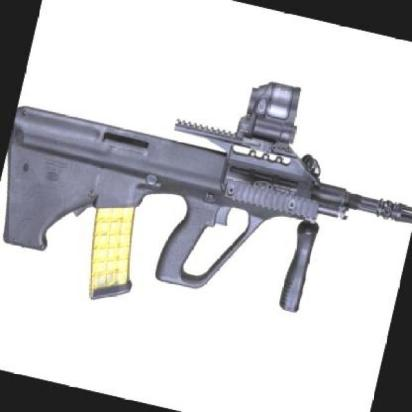Gun: (0, 21, 412, 374)
